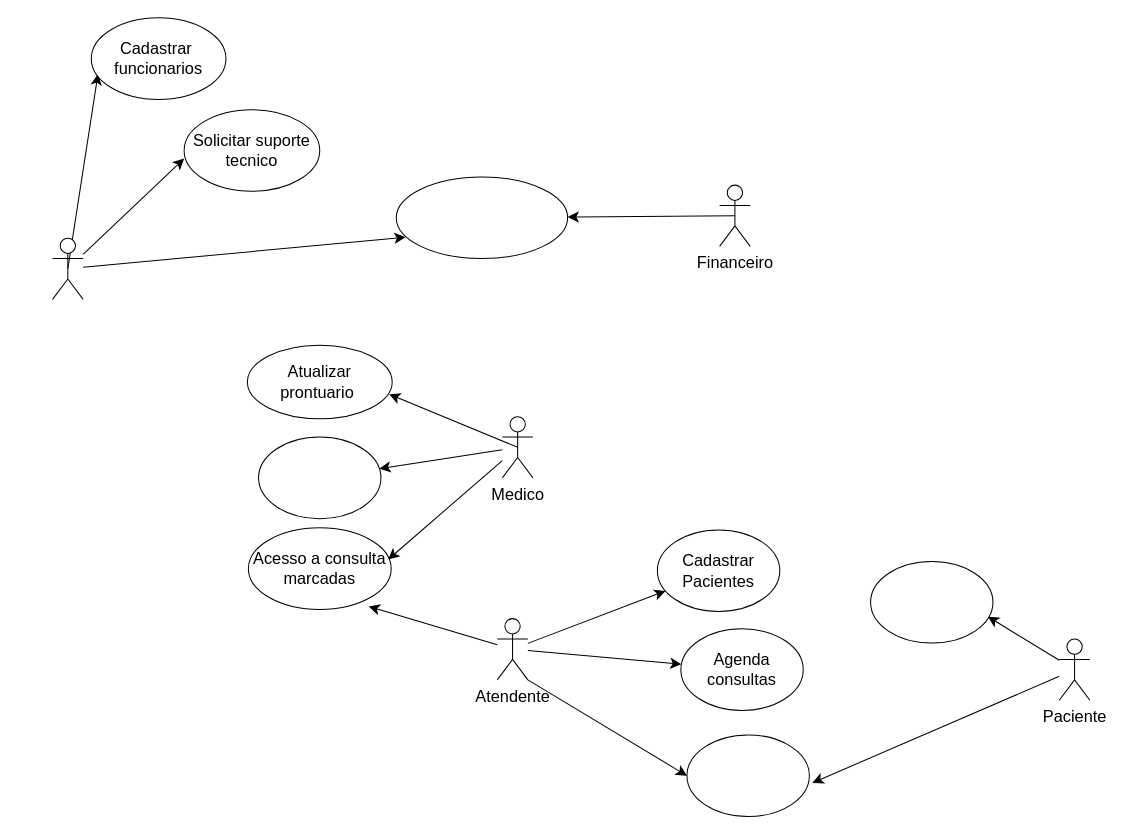
Some shapes in this 1124 by 834 pixel diagram are drawn without their labels. Here are the shapes that lost their labels. From the top down, the centre of each, then its label:
point (481, 217): gerenciamento de relatórios financeiros.
point (67, 268): Administrador
point (319, 477): Emitir receita
point (931, 601): Solicita Consulta
point (747, 775): cancelar consulta
